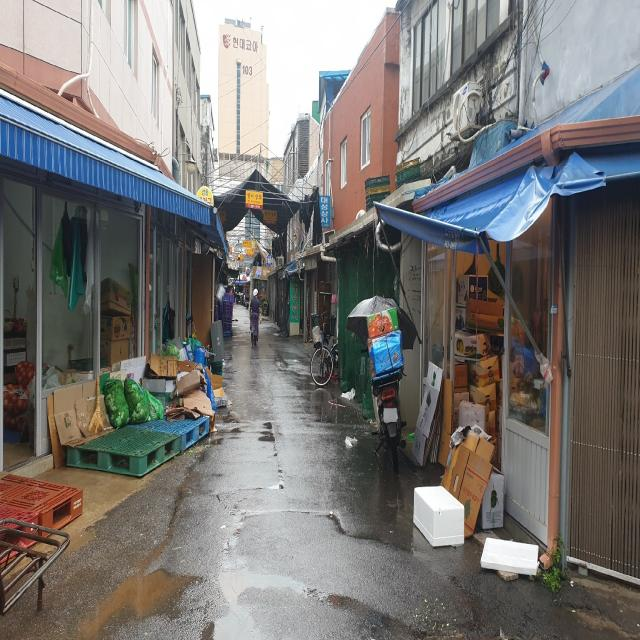motorbike: (367, 308, 405, 477)
